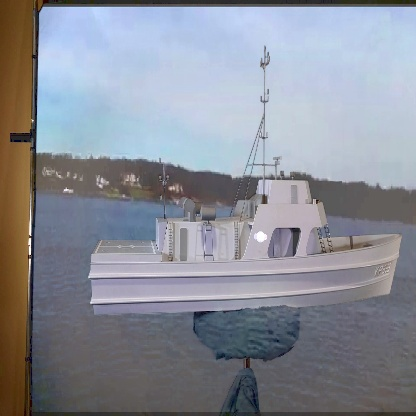YP689: (90, 41, 402, 316)
